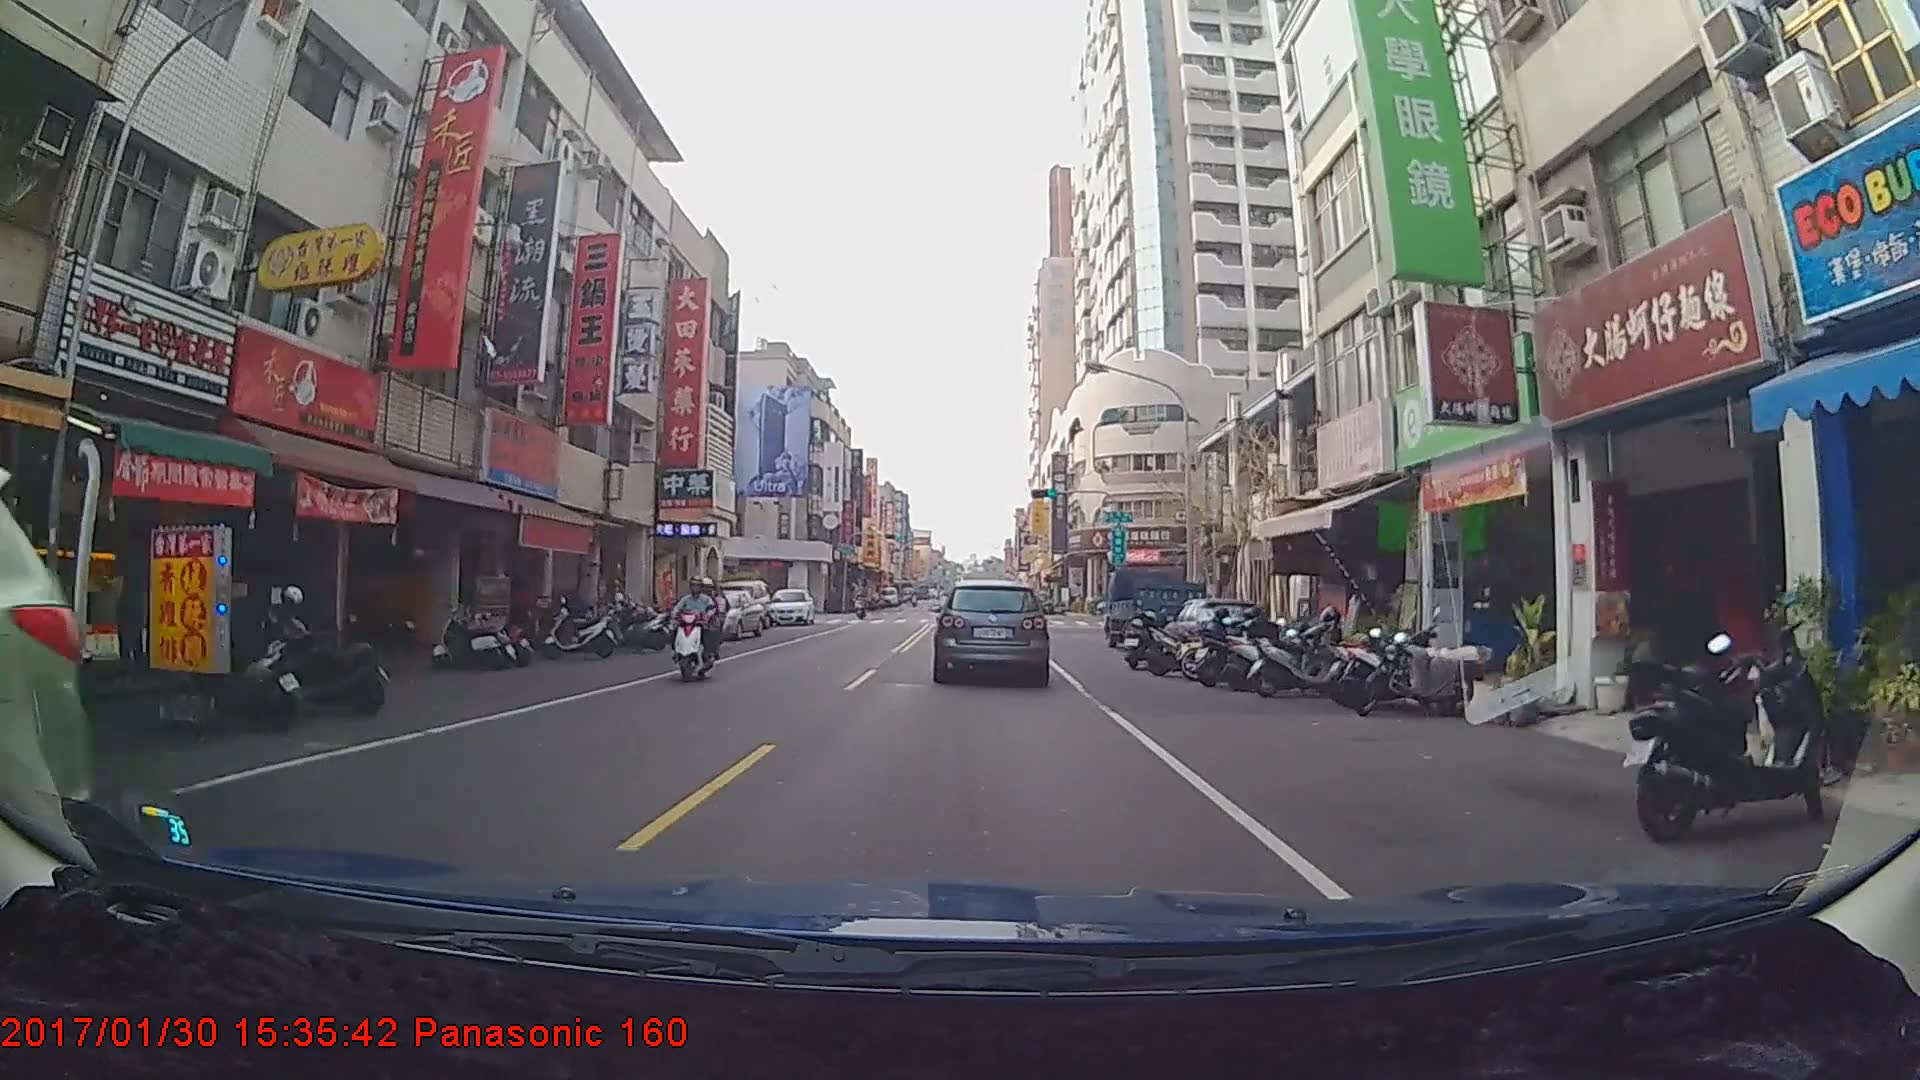rider: (668, 573, 729, 686), (851, 586, 871, 619)
vehicle: (934, 578, 1048, 681), (1100, 564, 1209, 650), (678, 586, 765, 640), (763, 586, 813, 628)
